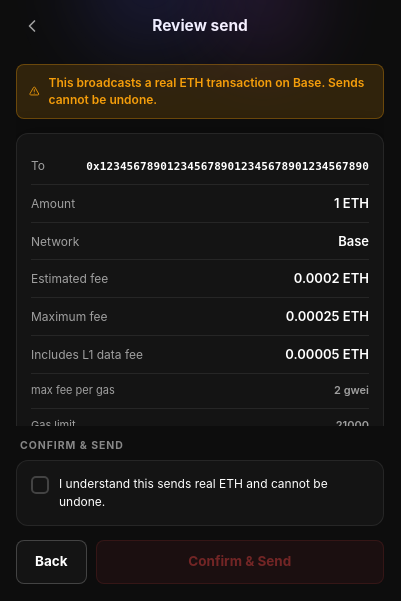
Scenario: LiveSendEvm, review step › 6. confirm: arm(true) precedes confirmEvmSend; success shows the txid and an explorer link
Step 1. Click the checkbox with test id "live-arm-checkbox" → (200, 493), box [31, 475, 369, 511]
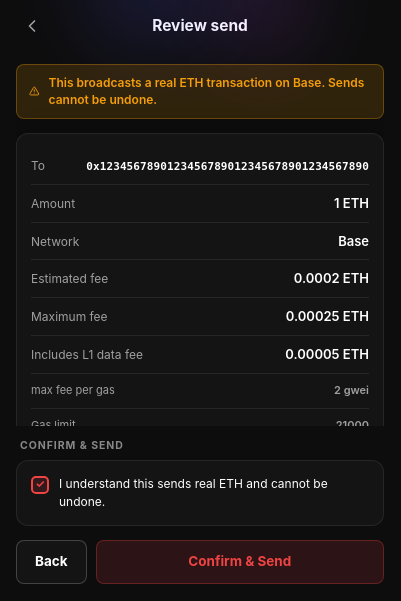
Step 2. Click the button with test id "live-broadcast" → (240, 562), box [96, 540, 384, 584]
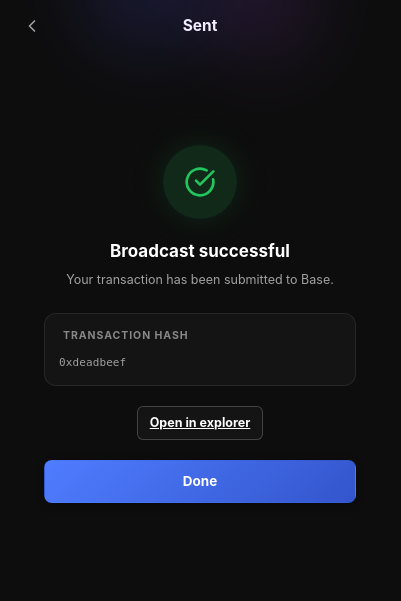
Result: the element with test id "live-review-txid" shows "0xdeadbeef" at [59, 356, 126, 368]
